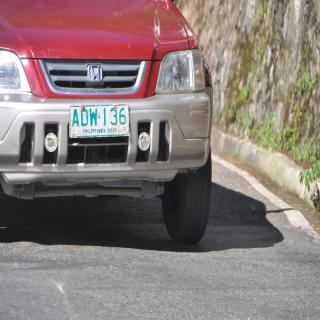license: (70, 105, 130, 139)
